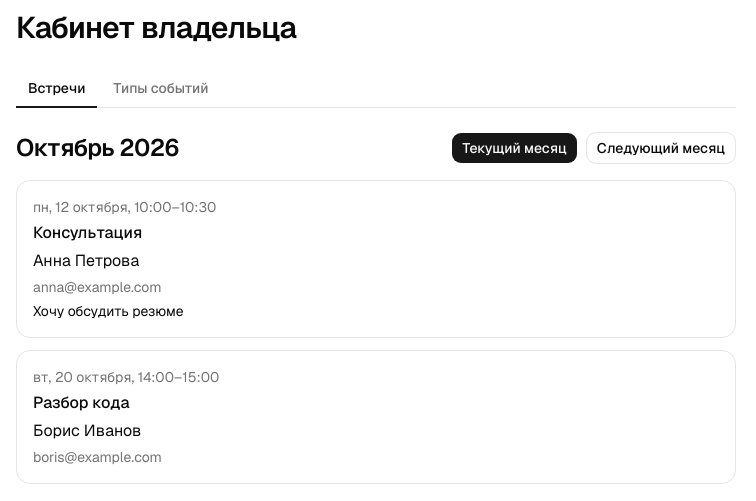
Scenario: вкладка «Встречи» › переключает на следующий месяц по поясу владельца
Expected: the heading "Октябрь 2026" is shown, [16, 132, 179, 164]
Click the button "Следующий месяц" at x=661, y=148, box [586, 132, 736, 164]
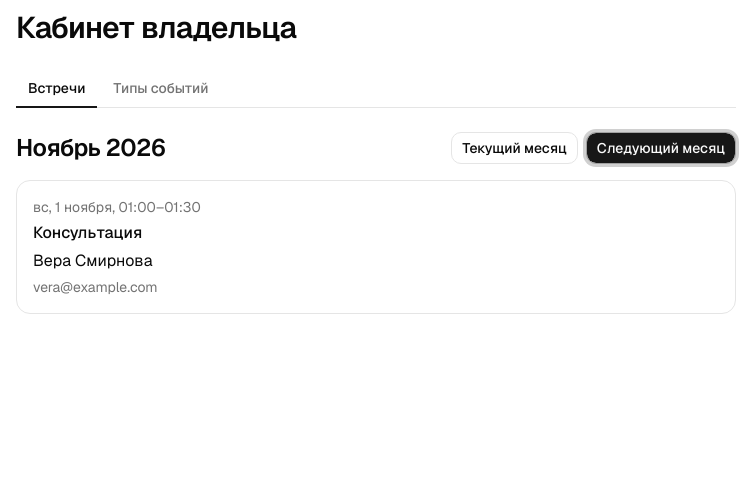
Expected: the heading "Ноябрь 2026" is shown, [16, 132, 165, 164]
Expected: the text "Вера Смирнова" is shown, [33, 250, 152, 271]
Expected: the text "Анна Петрова" is gone
Click the button "Текущий месяц" at x=515, y=148, box [451, 132, 578, 164]
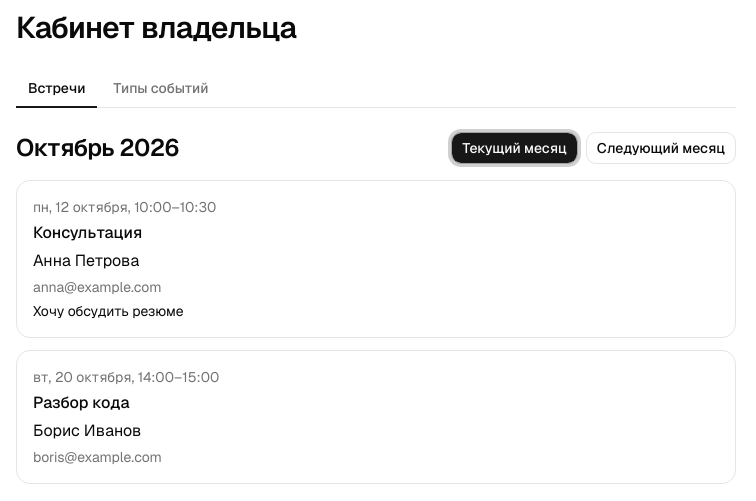
Expected: the text "Анна Петрова" is shown, [33, 250, 139, 271]
